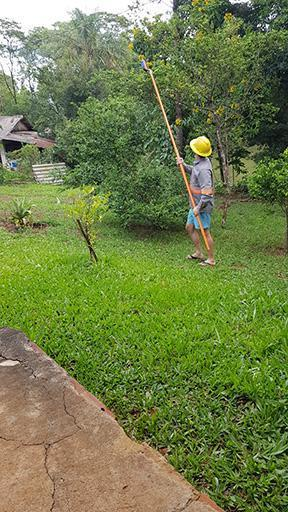helmet: (188, 134, 212, 160)
